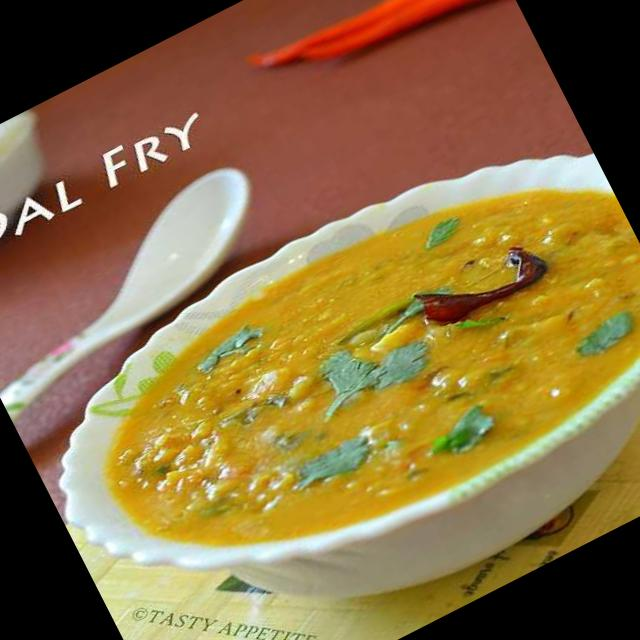dal: (77, 128, 640, 621)
